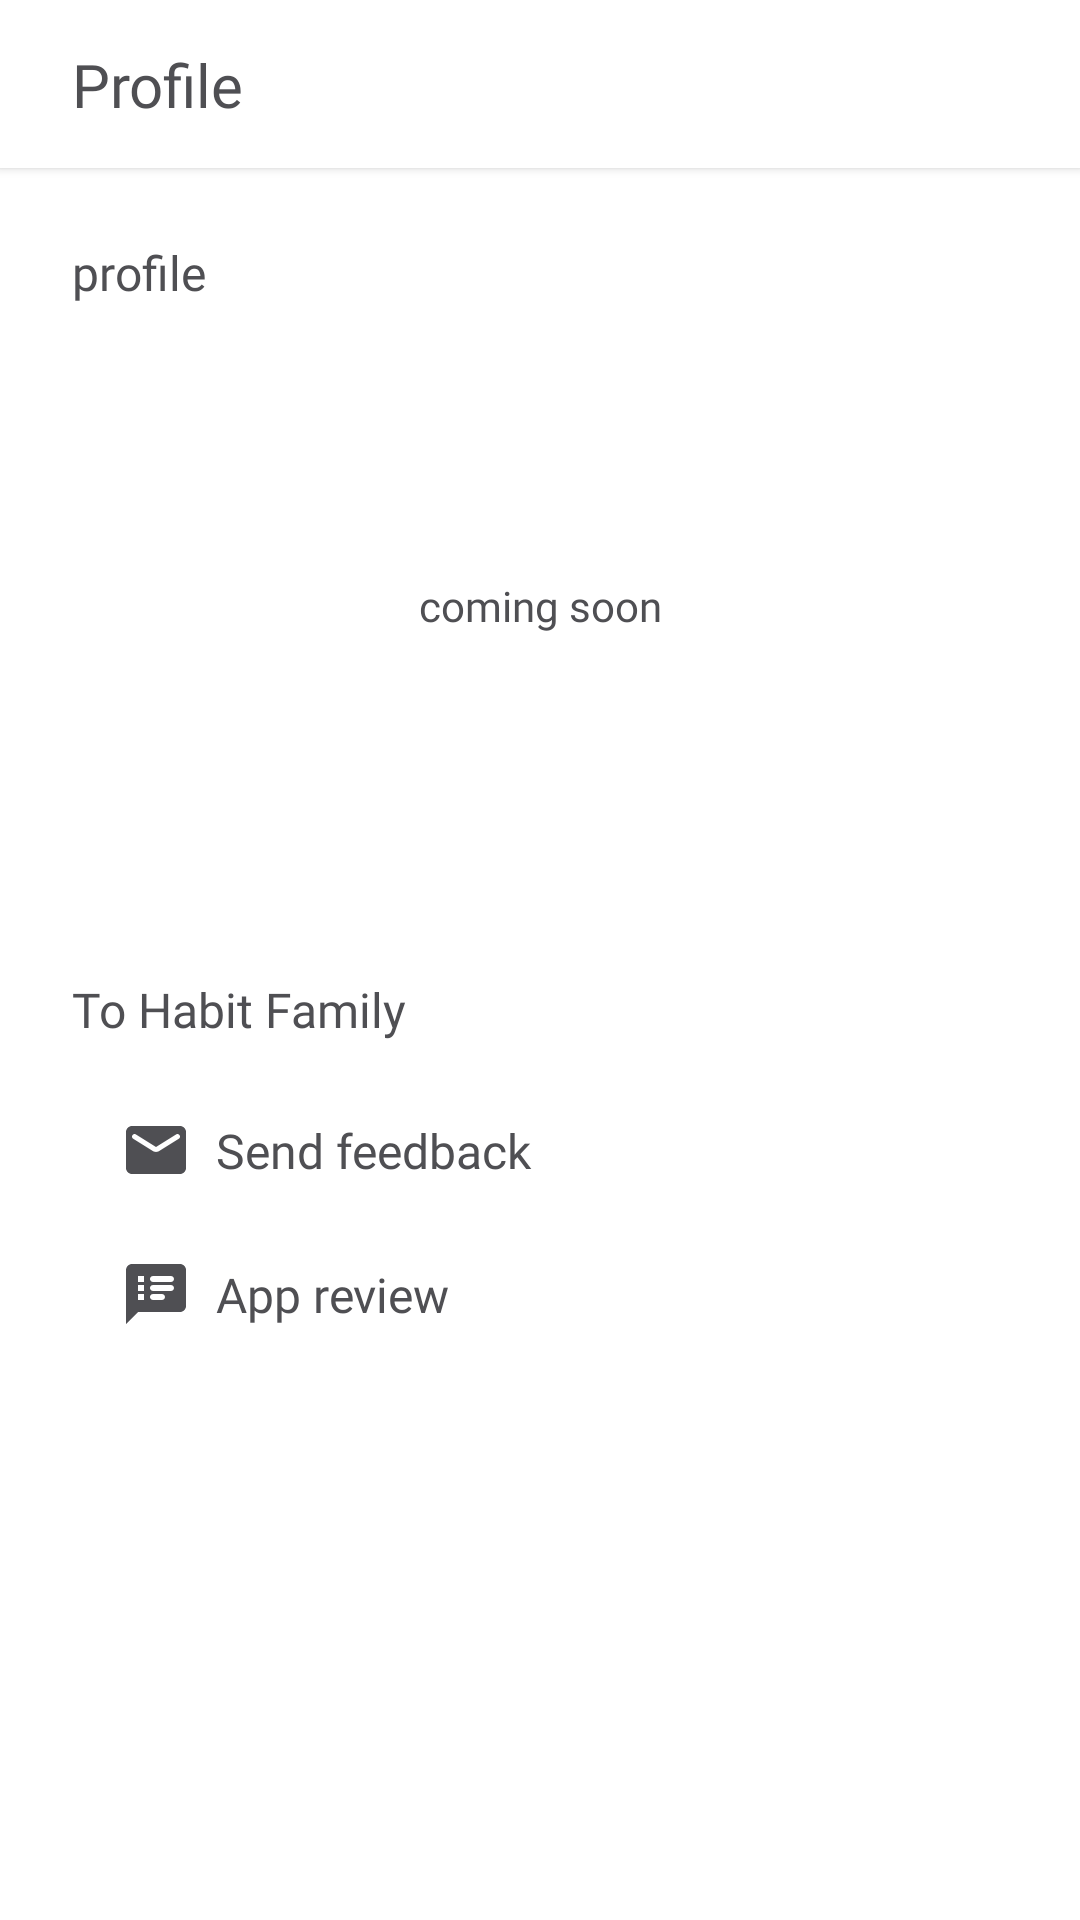

Named icons in this screenshot (1080×1920) and their bounding boxes, bbox=[x1, y1, x2, y2]:
mail: bbox=[126, 1126, 186, 1174]
speaker notes: bbox=[126, 1264, 186, 1324]
